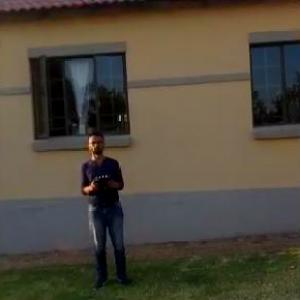follow: (77, 122, 134, 294)
